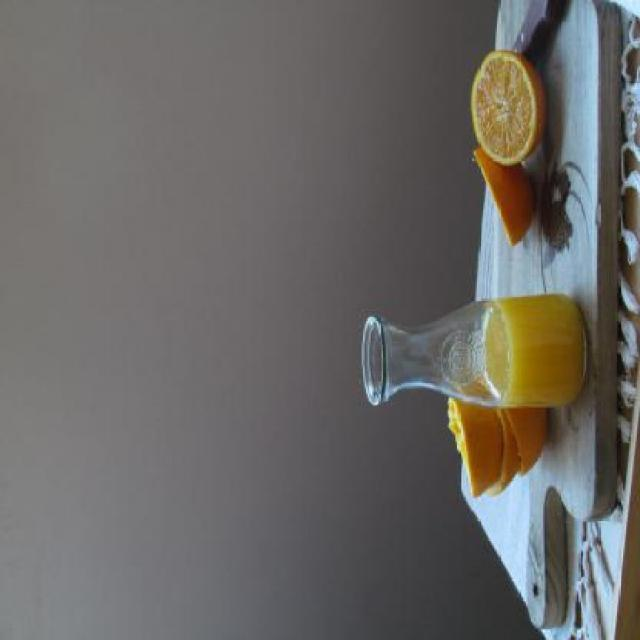Orange: (474, 46, 551, 180), (473, 146, 538, 243)
